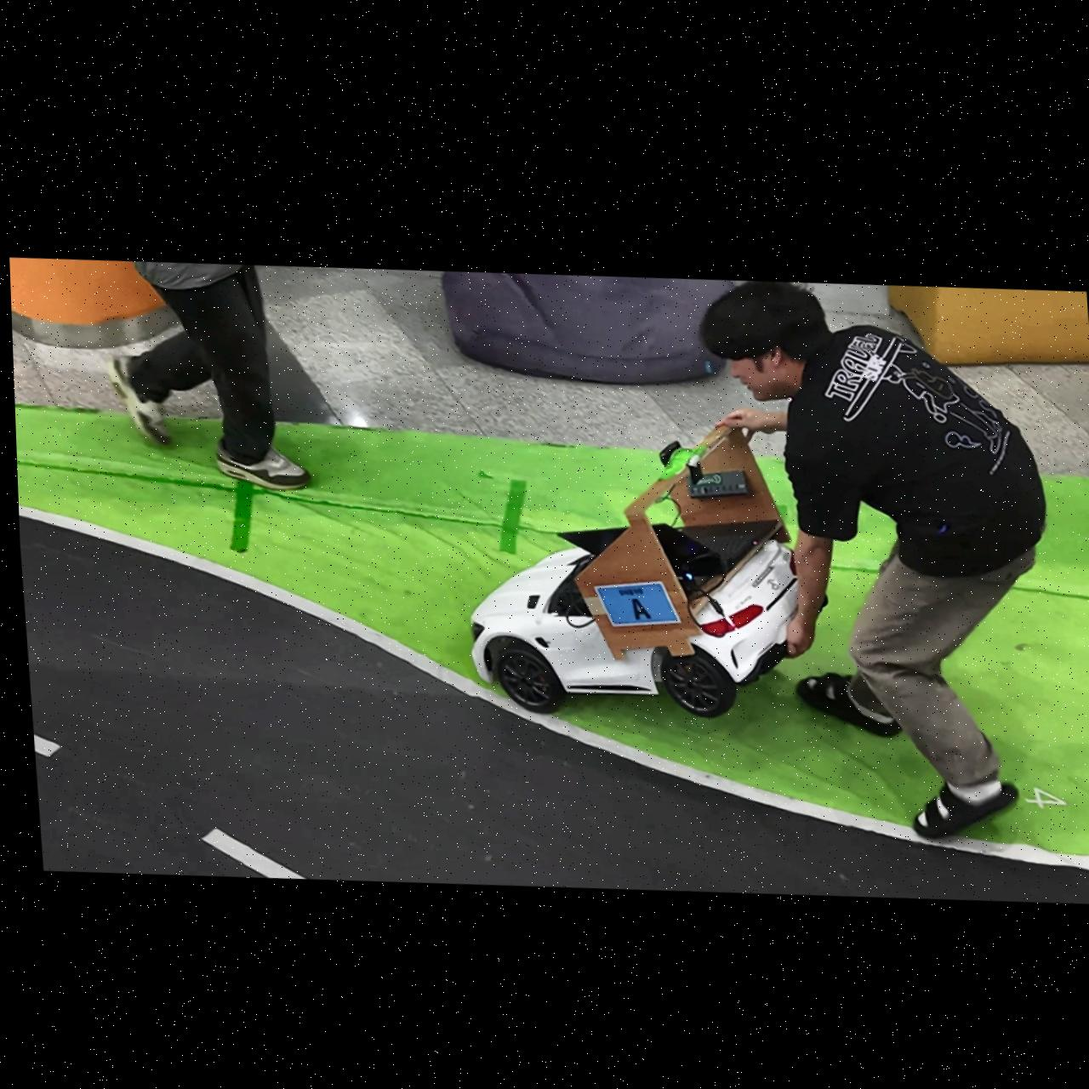broken_line: (200, 827, 306, 878), (33, 733, 62, 757)
